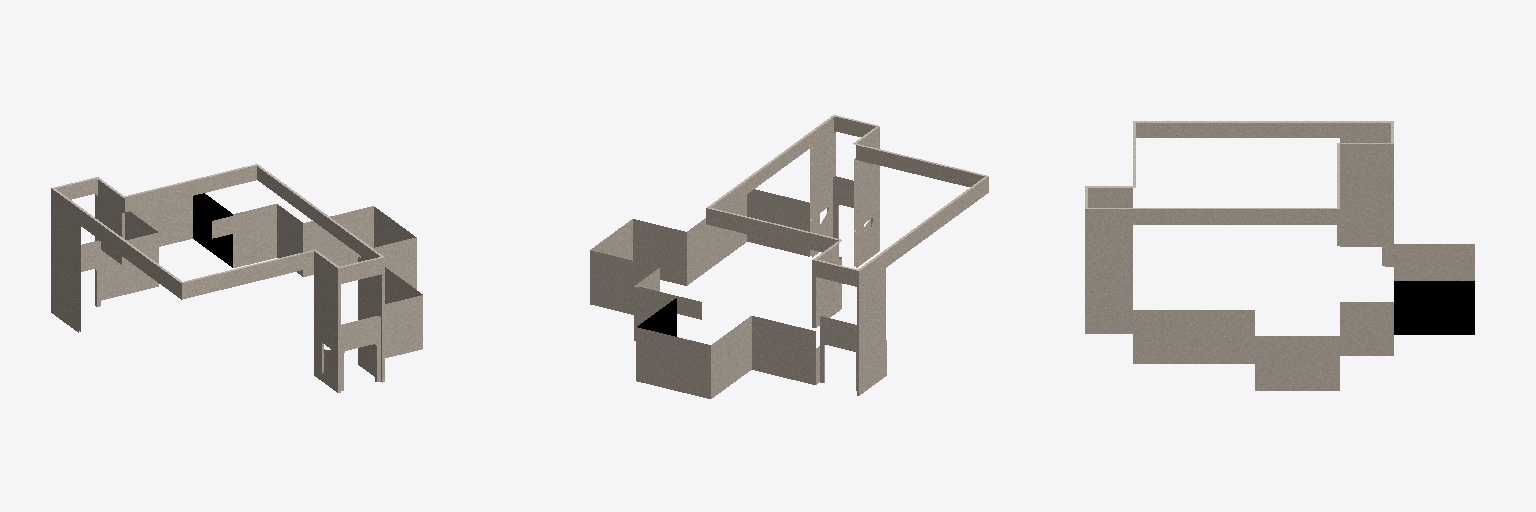
3 renders of one model, left to right at view 1: azimuth 30°, elevation 25°; view 2: azimuth 150°, elevation 25°; view 3: azimuth 270°, elevation 25°, orthographic.
Bounding box in the file's own units: 57.1 × 23 × 65.1.
Materials: 2 (1 with a texture image).